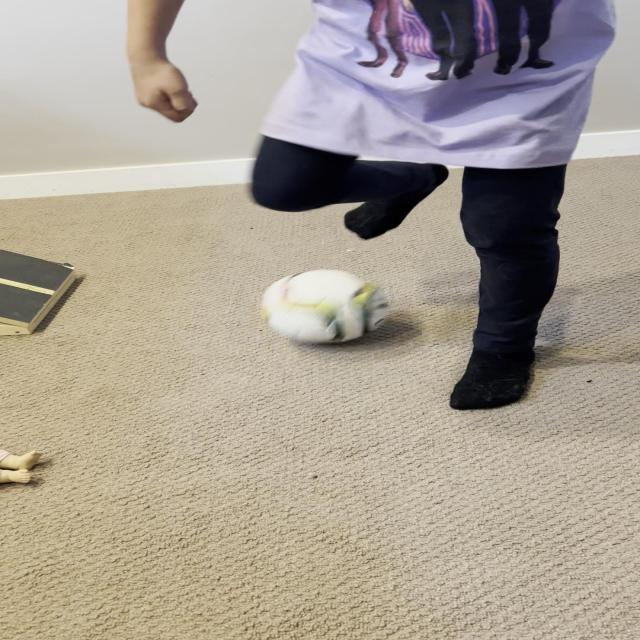Soccer Ball: (259, 269, 390, 343)
